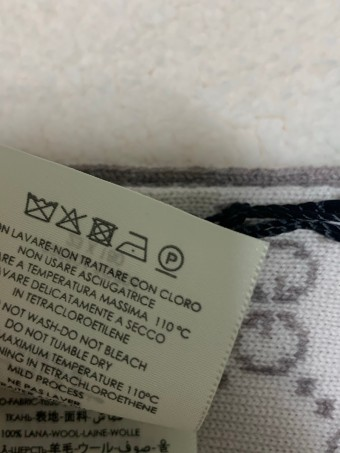ER_dry_clean_chemical_mild: (154, 242, 186, 281)
ER_iron_low_temp: (116, 227, 150, 266)
ER_no_bleach: (56, 205, 83, 238)
ER_no_tumble_dry: (87, 214, 117, 248)
ER_wash_40_mild: (19, 187, 60, 224)
